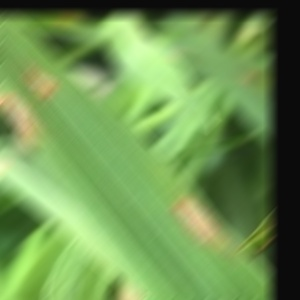Brown_Spot: (155, 184, 239, 258), (0, 82, 50, 143), (12, 57, 64, 101)
